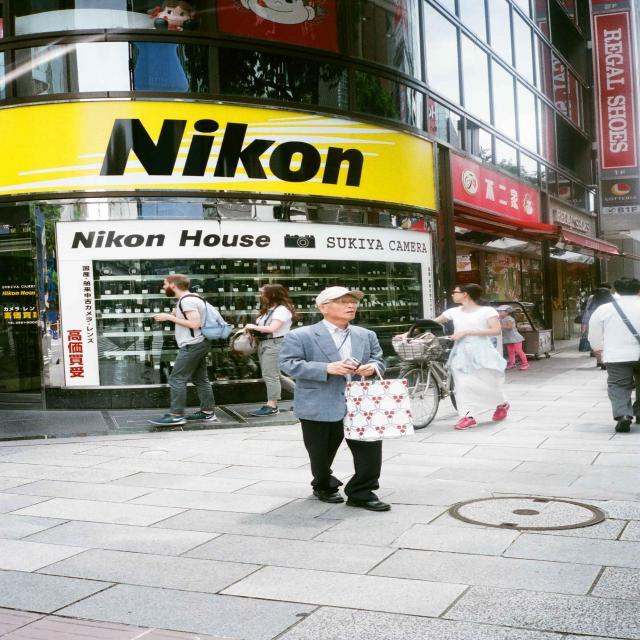body: (276, 285, 402, 511), (392, 280, 514, 430), (143, 272, 235, 427), (587, 274, 640, 434), (239, 283, 298, 417), (579, 287, 617, 371), (492, 304, 532, 371), (215, 302, 260, 324), (365, 292, 389, 328), (136, 317, 154, 364), (587, 281, 619, 305), (119, 311, 131, 343), (582, 299, 588, 316), (591, 289, 596, 296)
